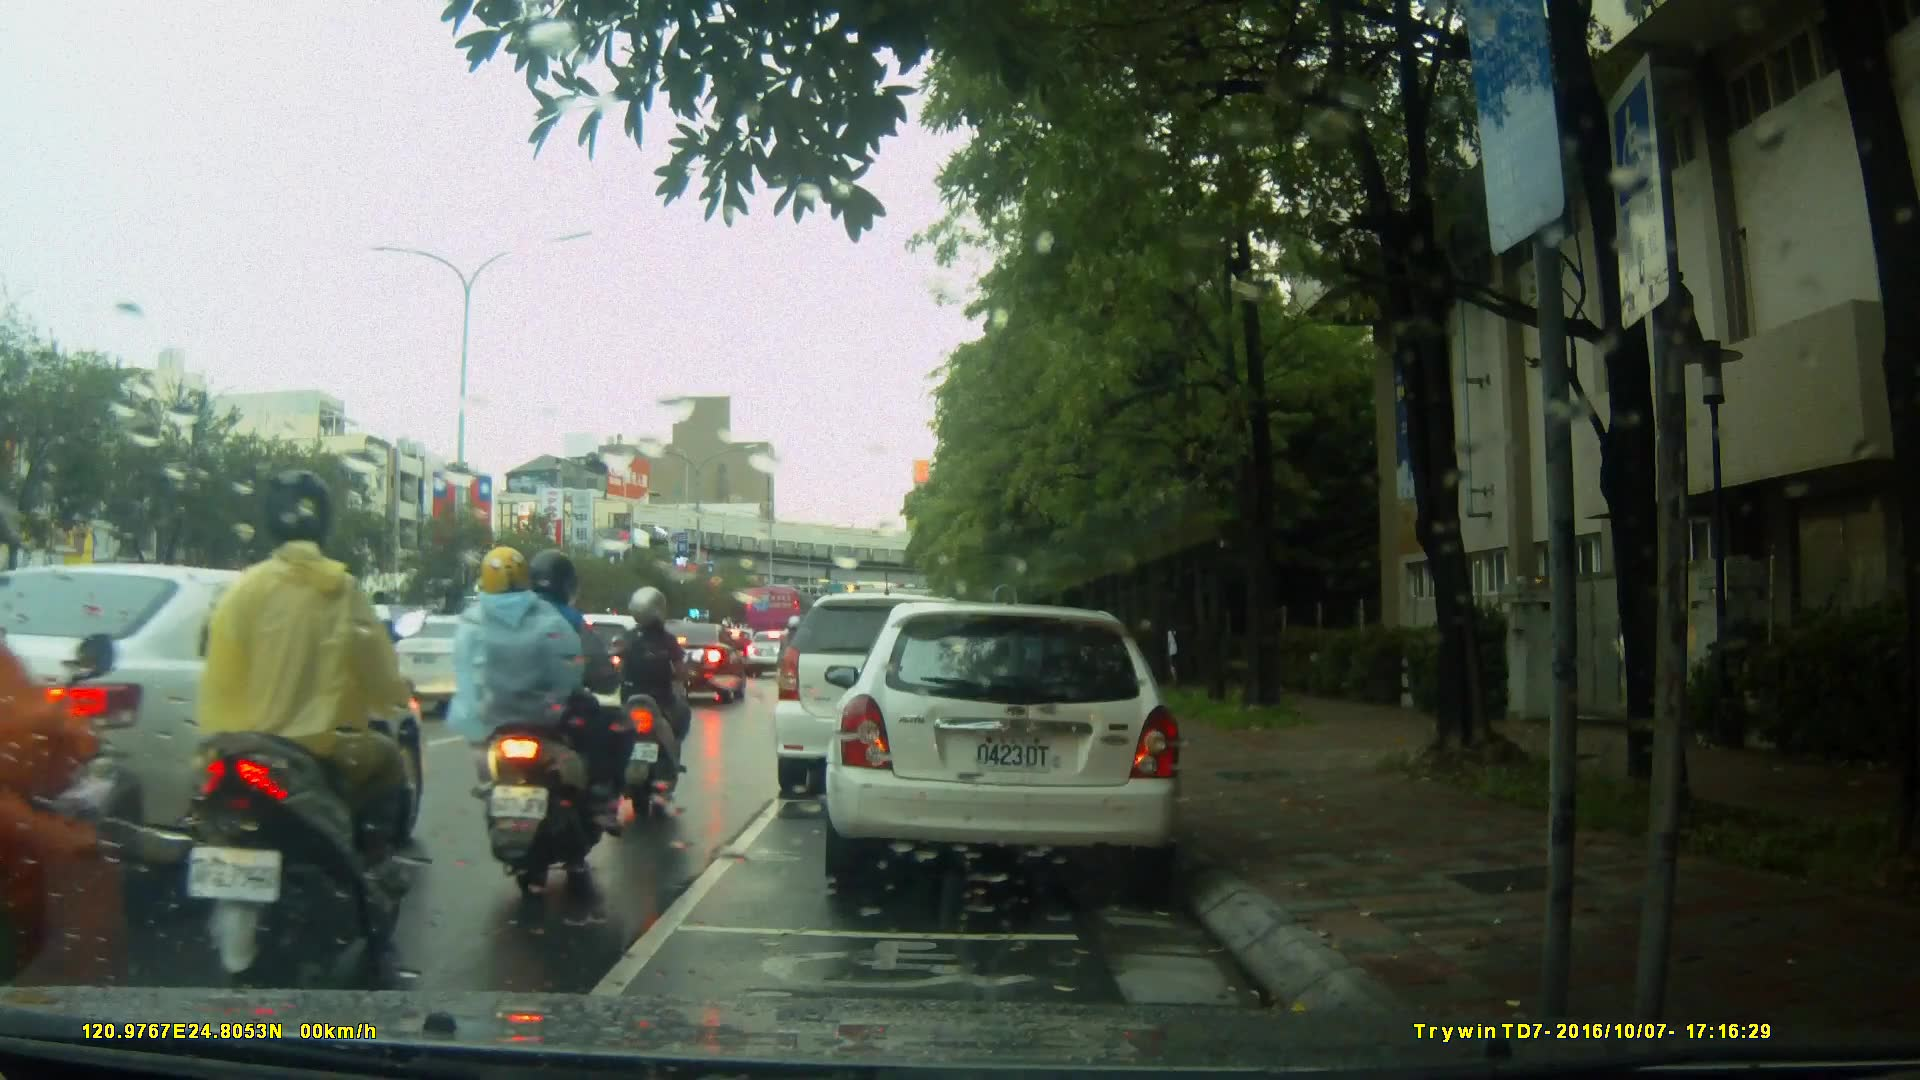rider: (176, 461, 426, 995), (1, 441, 132, 1039), (449, 546, 623, 909), (587, 583, 700, 834)
vehicle: (1, 562, 436, 861), (835, 594, 1194, 898), (776, 590, 1026, 784), (635, 624, 750, 705), (743, 576, 820, 654)
